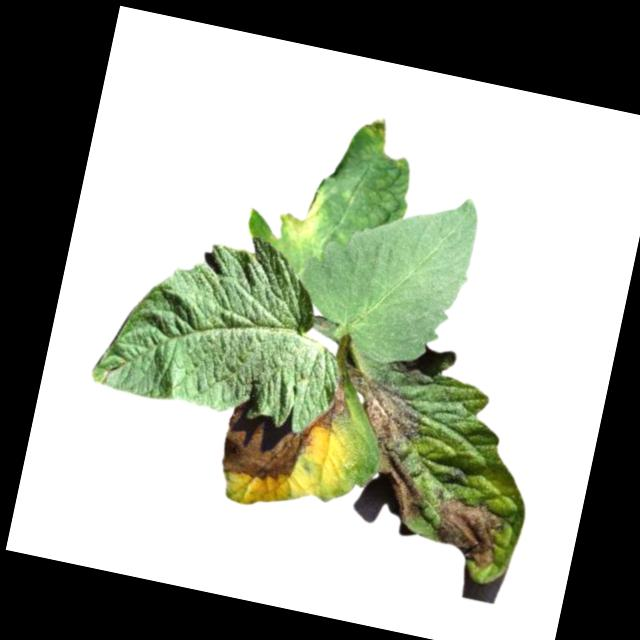Late_blight: (313, 360, 450, 526), (217, 406, 313, 490), (423, 491, 508, 571), (274, 178, 327, 252), (313, 370, 352, 431), (358, 112, 390, 143)
